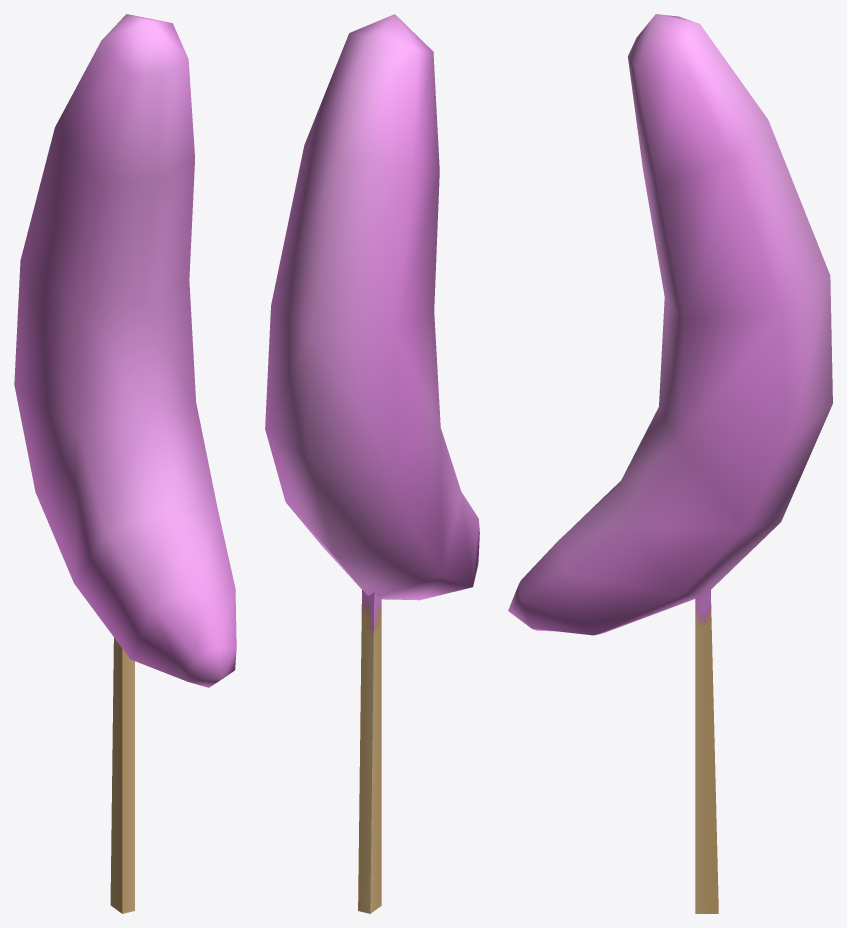
The model's file is jsf_ChocolateBanana_a01_c02.fbx.
3 renders of one model, left to right at view 1: azimuth 30°, elevation 25°; view 2: azimuth 150°, elevation 25°; view 3: azimuth 270°, elevation 25°, orthographic. The views are drawn at different scales.
Visible parts, largest first — view 1: jsf_ChocolateBanana_a01_c02; view 2: jsf_ChocolateBanana_a01_c02; view 3: jsf_ChocolateBanana_a01_c02.
Part boxes in pixels (x1=…): jsf_ChocolateBanana_a01_c02: x1=14, y1=14, x2=236, y2=913; jsf_ChocolateBanana_a01_c02: x1=265, y1=14, x2=479, y2=913; jsf_ChocolateBanana_a01_c02: x1=508, y1=14, x2=832, y2=913.
Size of the model in its own units: 3.73 by 23.83 by 7.83.
